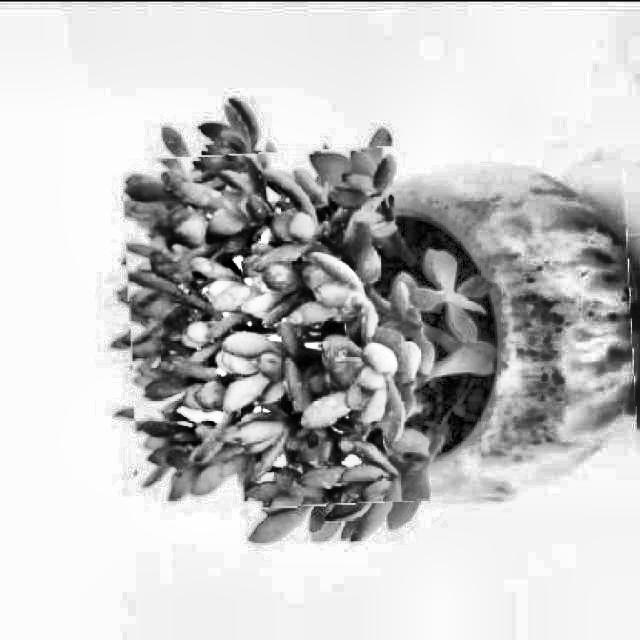plants: (127, 140, 636, 506)
